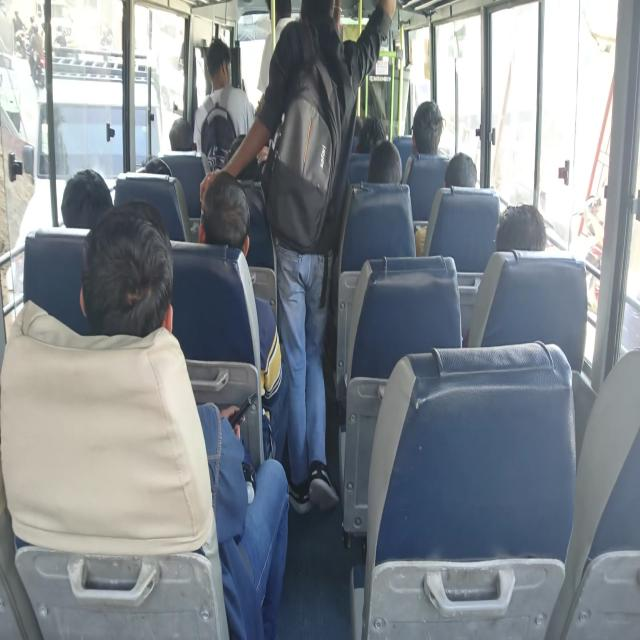person: (282, 5, 368, 201), (80, 220, 184, 356), (201, 182, 253, 255), (55, 177, 117, 230), (260, 3, 297, 81), (493, 206, 548, 258), (225, 133, 270, 189), (373, 145, 411, 200), (412, 102, 445, 156), (142, 150, 182, 192), (209, 44, 240, 86), (445, 165, 478, 201), (356, 121, 390, 155), (167, 117, 198, 150)
